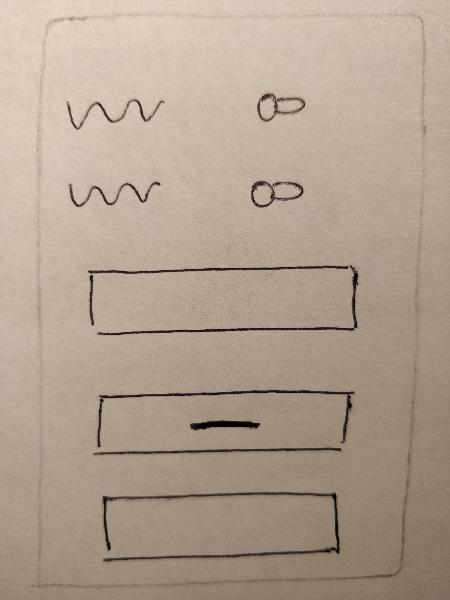button: (84, 381, 362, 465)
switch: (239, 172, 310, 214), (245, 84, 310, 126)
text: (57, 90, 172, 141), (64, 171, 168, 225)
text_input: (79, 260, 364, 342), (87, 485, 351, 567)
